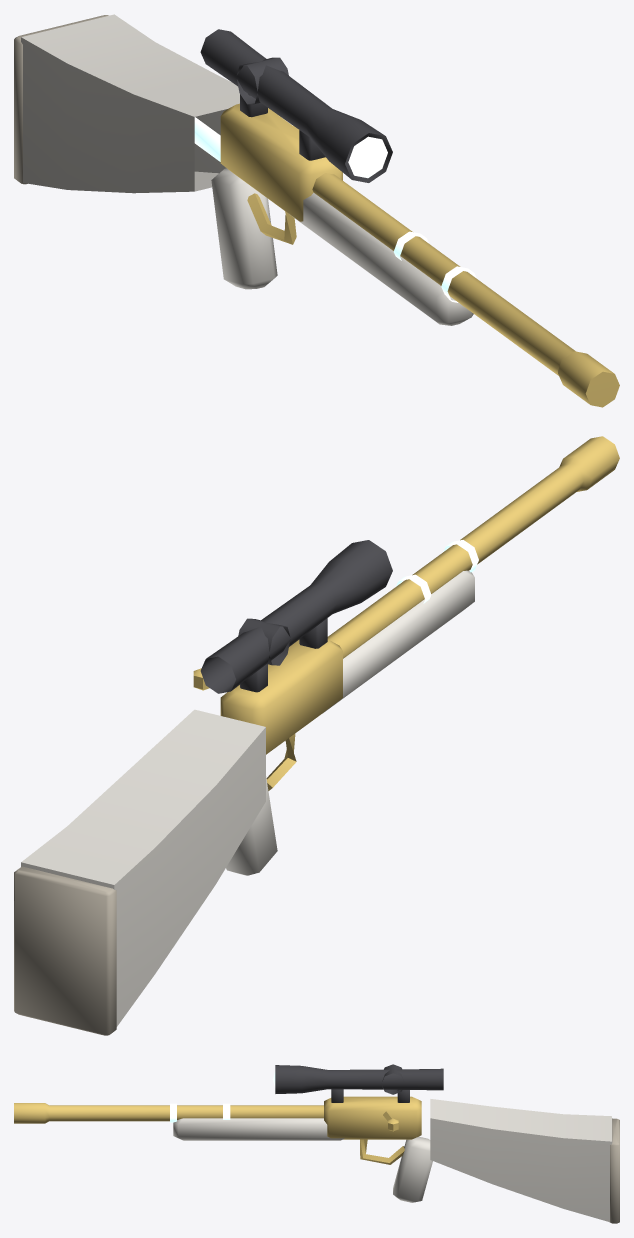
File: rifle-5.glb
3 views of the same model, one above another, from view 1: azimuth 30°, elevation 25°; view 2: azimuth 150°, elevation 25°; view 3: azimuth 270°, elevation 25° (orthographic). The views are drawn at different scales.
Visible parts, largest first — view 1: rifle-5; view 2: rifle-5; view 3: rifle-5.
Part boxes in pixels (x1,y1,x2,y2): rifle-5: (14,14,619,407); rifle-5: (14,436,619,1035); rifle-5: (14,1064,619,1223).
Bounding box in the file's own units: 0.0859 × 0.1815 × 0.684.
